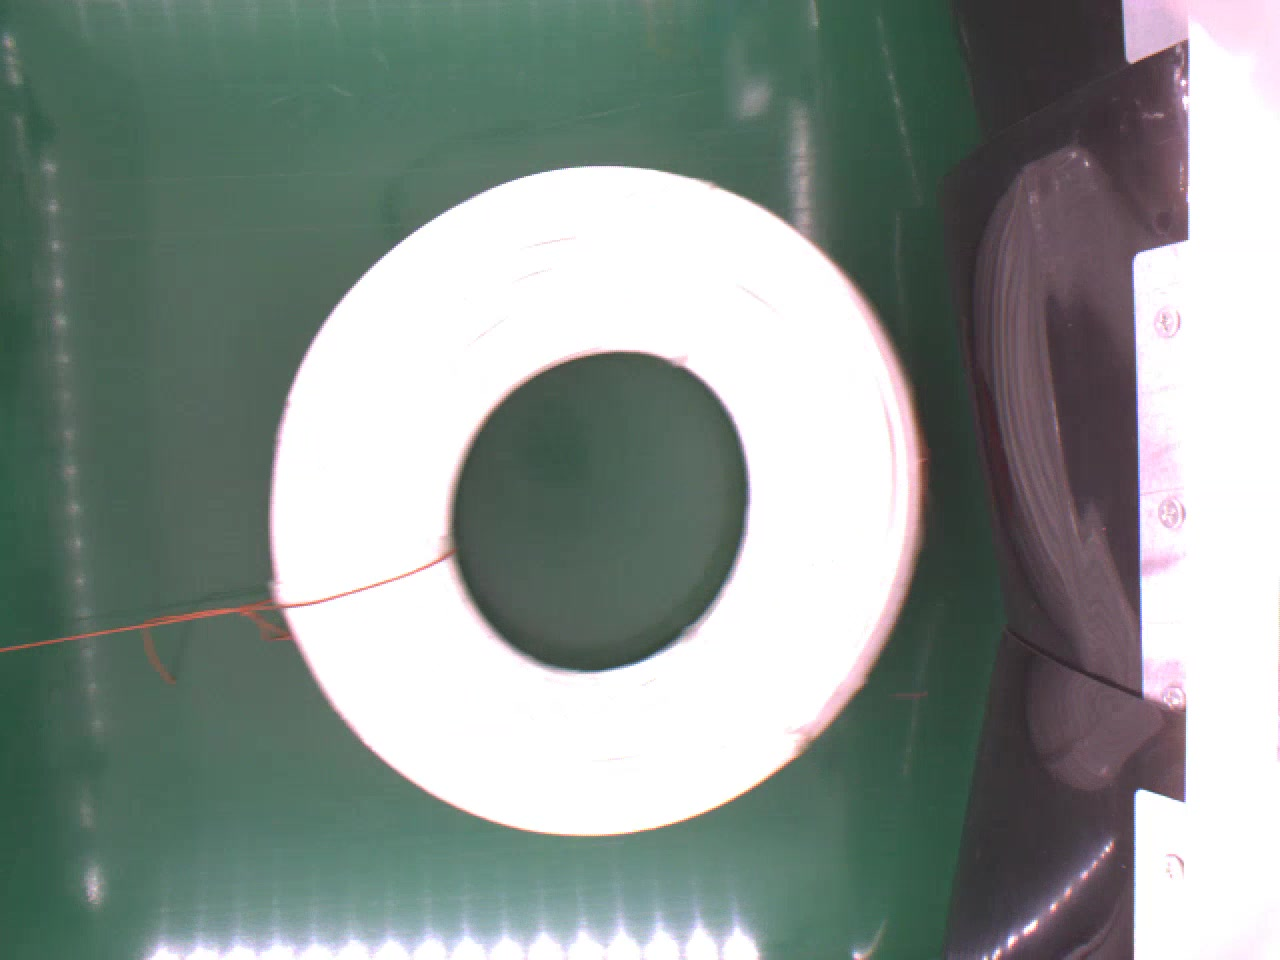white: (266, 164, 920, 835)
